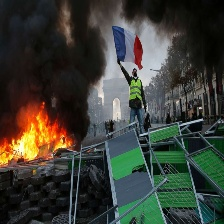fire: (1, 108, 76, 169)
smoke: (1, 1, 98, 137), (123, 1, 224, 87)
